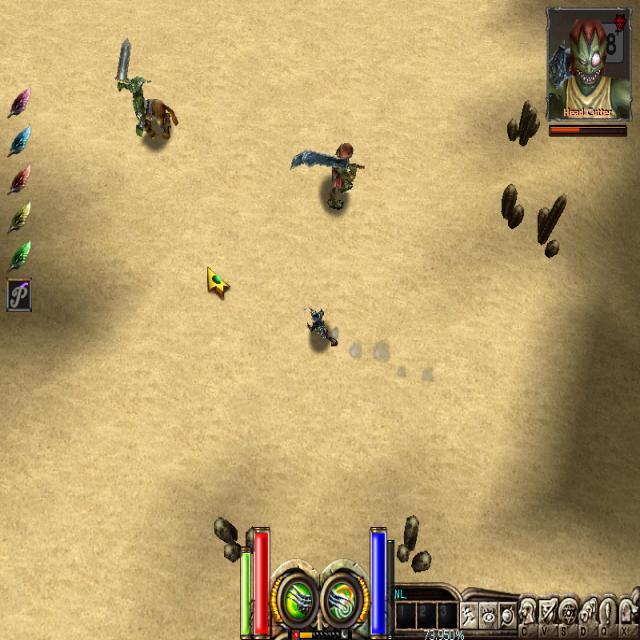monster: (98, 37, 206, 177), (302, 116, 385, 236), (286, 280, 291, 285)
